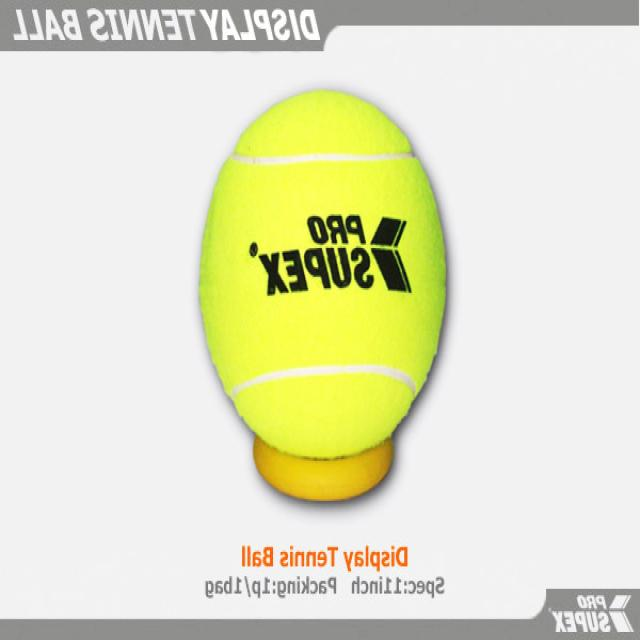Tennis Ball: (197, 90, 449, 462)
